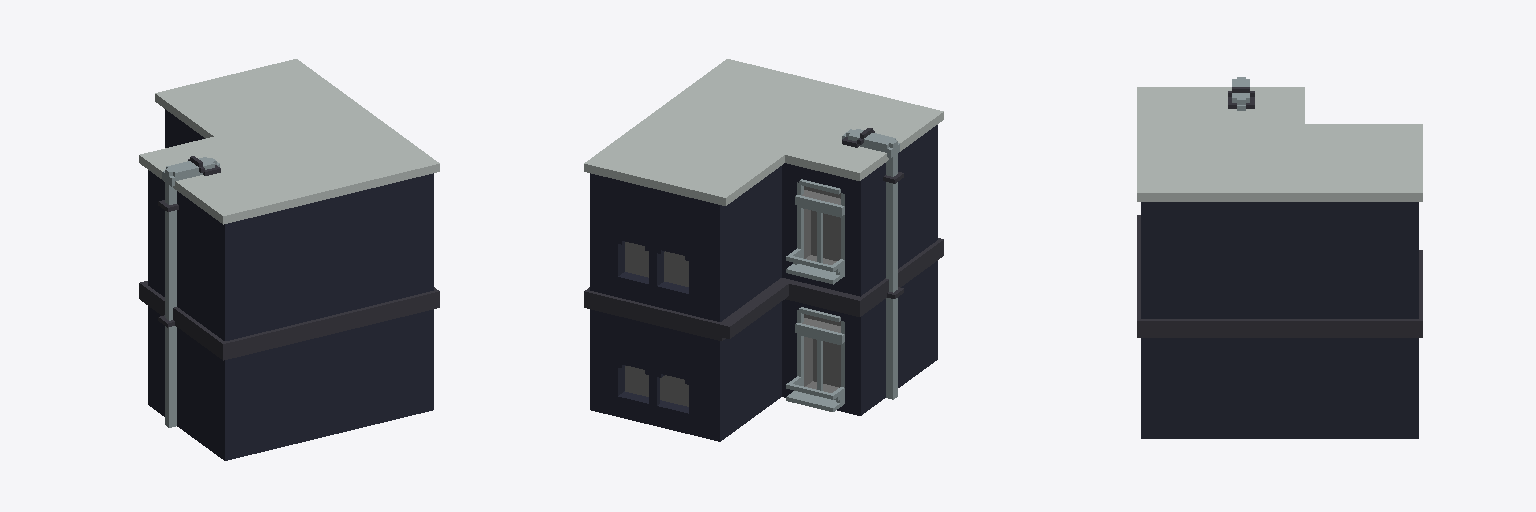
The picture shows the model from 3 angles: view 1: azimuth 30°, elevation 25°; view 2: azimuth 150°, elevation 25°; view 3: azimuth 270°, elevation 25°; orthographic projection.
Parts seen in each view (by area): view 1: object 1; view 2: object 1; view 3: object 1.
Boxes of the visible parts, <box> form: object 1: <box>139,59,439,460</box>; object 1: <box>584,59,943,441</box>; object 1: <box>1137,77,1422,438</box>.
Size of the model in its own units: 5.7 by 6.3 by 6.3.
Materials: 1 (1 with a texture image).